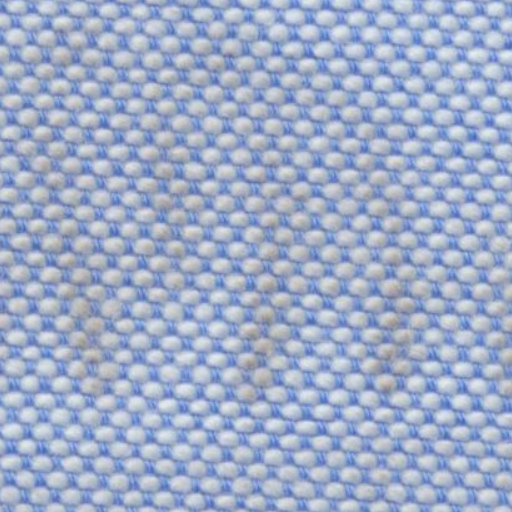WuZi: (4, 26, 500, 396)
